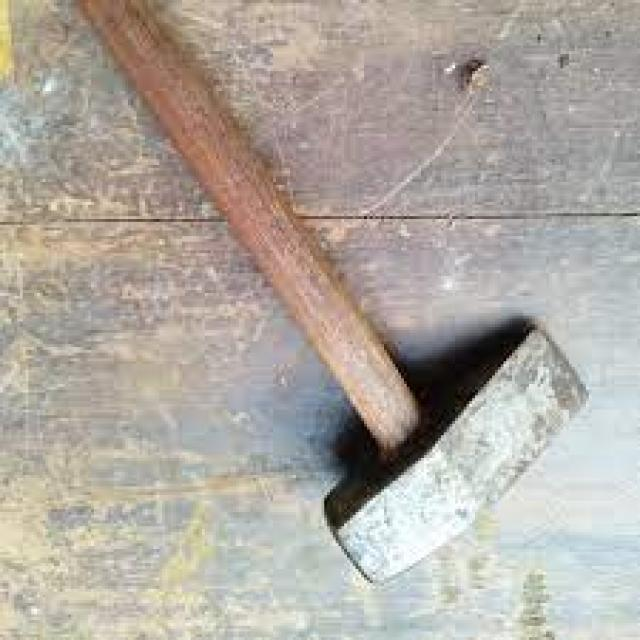hammer: (75, 0, 601, 597)
